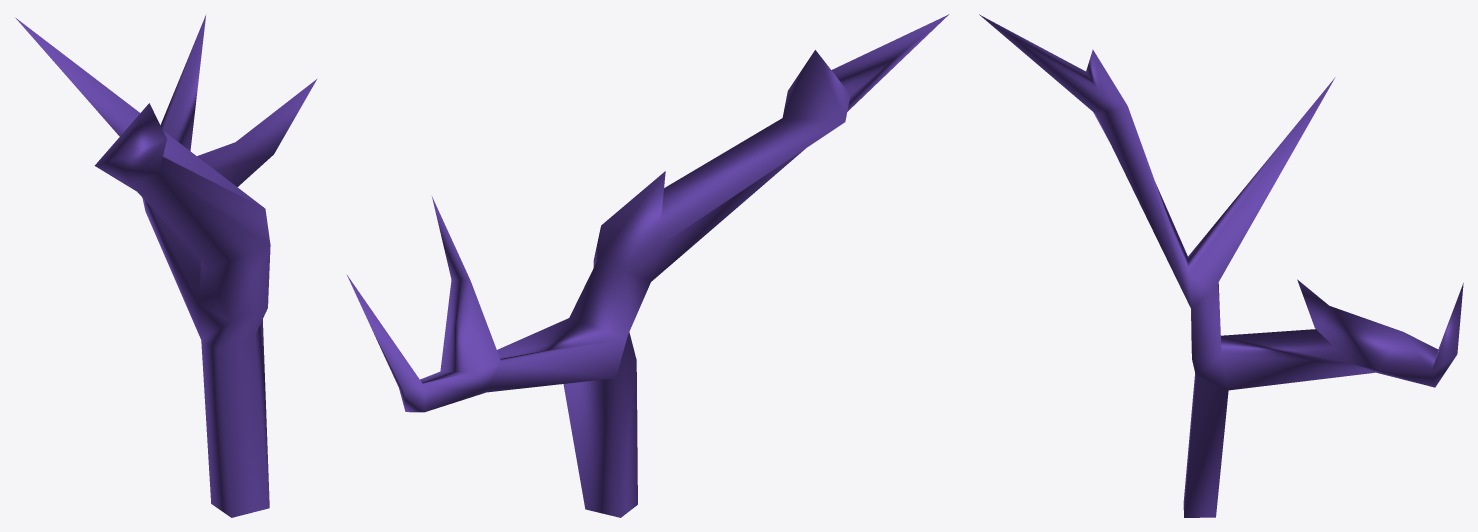
File: seaGrassSmallViolet.fbx
3 renders of one model, left to right at view 1: azimuth 30°, elevation 25°; view 2: azimuth 150°, elevation 25°; view 3: azimuth 270°, elevation 25°, orthographic. The views are drawn at different scales.
Visible parts, largest first — view 1: seaGrassSmallViolet; view 2: seaGrassSmallViolet; view 3: seaGrassSmallViolet.
Part boxes in pixels (<box>): seaGrassSmallViolet: <box>15,14,316,517</box>; seaGrassSmallViolet: <box>346,14,949,517</box>; seaGrassSmallViolet: <box>979,14,1463,517</box>.
Size of the model in its own units: 0.156 by 0.1997 by 0.2176.
